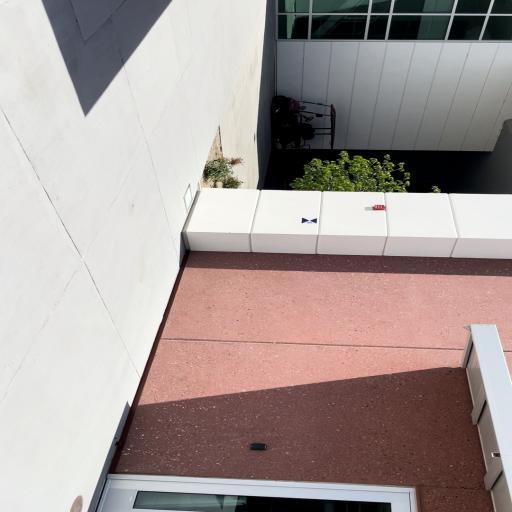target6: (302, 217, 317, 224)
